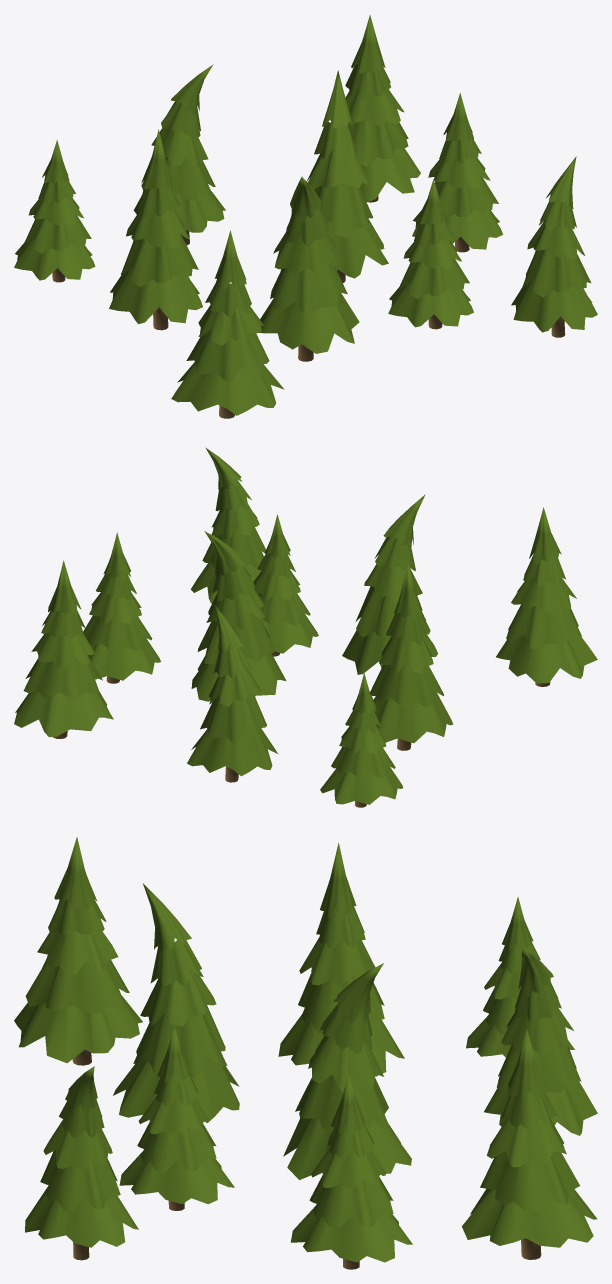
The model's file is result.gltf.
3 renders of one model, top to bottom at view 1: azimuth 30°, elevation 25°; view 2: azimuth 150°, elevation 25°; view 3: azimuth 270°, elevation 25°, orthographic. The views are drawn at different scales.
Visible parts, largest first — view 1: Resource_PineTree_Group; view 2: Resource_PineTree_Group; view 3: Resource_PineTree_Group.
Boxes of the visible parts, x1=… form: Resource_PineTree_Group: x1=14, y1=15, x2=597, y2=418; Resource_PineTree_Group: x1=14, y1=447, x2=597, y2=807; Resource_PineTree_Group: x1=14, y1=837, x2=597, y2=1269.
Bounding box in the file's own units: 1.78 × 0.7882 × 1.73.
